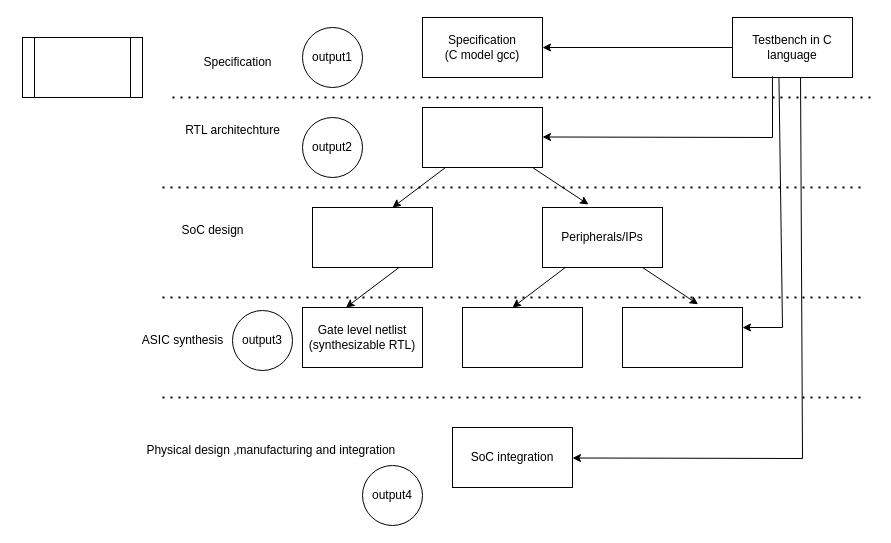
Image size: 891x543. Some labels were removed from this diagram. Each missing label, with the centre of its shape:
Analog IPs (Functional RTL): point (682, 337)
Macros (synthesizable RTL): point (522, 337)
O1=O2=O3=O4 Chip Validated: point (82, 67)
Processor: point (372, 237)
Soft copy of hardware using RTL(Verilog): point (482, 137)
